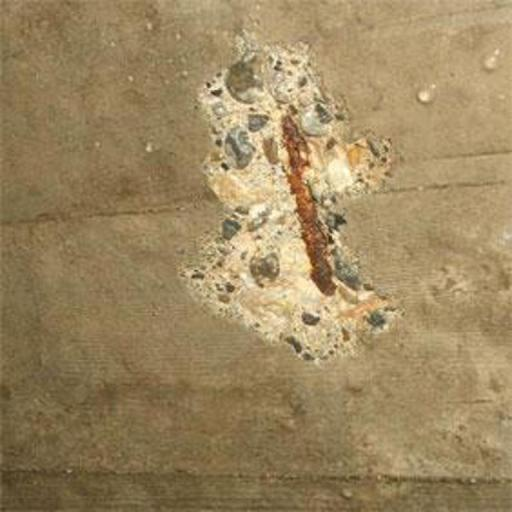spalling: (182, 30, 404, 374)
